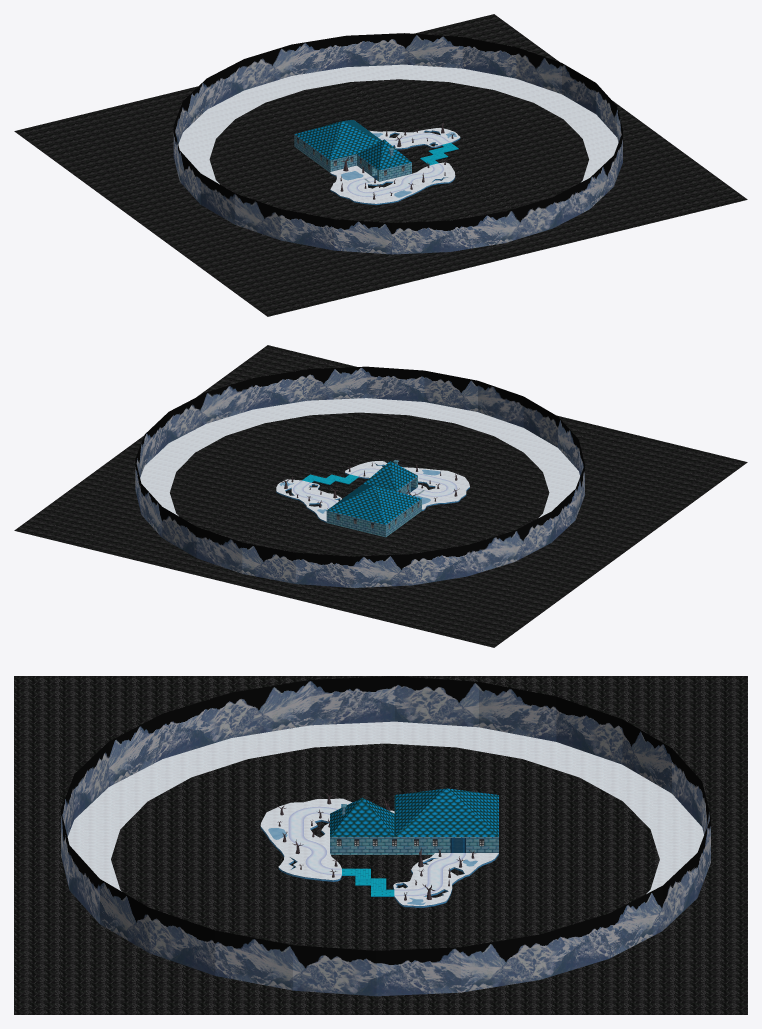
3 views of the same model, one above another, from view 1: azimuth 30°, elevation 25°; view 2: azimuth 150°, elevation 25°; view 3: azimuth 270°, elevation 25° (orthographic). The views are drawn at different scales.
Visible parts, largest first — view 1: Blue_Loop_SKP__ef_wave.001, Blue_Loop_SKP__Mountains.001, Blue_Loop_SKP__Snow.001, Blue_Loop_SKP__Roof.001, Blue_Loop_SKP__Brick.001, Blue_Loop_SKP__Road.001, Blue_Loop_SKP__Ice.001; view 2: Blue_Loop_SKP__ef_wave.001, Blue_Loop_SKP__Mountains.001, Blue_Loop_SKP__Snow.001, Blue_Loop_SKP__Roof.001, Blue_Loop_SKP__Brick.001, Blue_Loop_SKP__Road.001; view 3: Blue_Loop_SKP__ef_wave.001, Blue_Loop_SKP__Mountains.001, Blue_Loop_SKP__Snow.001, Blue_Loop_SKP__Roof.001, Blue_Loop_SKP__Brick.001, Blue_Loop_SKP__Road.001, Blue_Loop_SKP__Ice.001, Blue_Loop_SKP__Planks.001, Blue_Loop_SKP__GV_Tree.001.
Part boxes in pixels (left/top/right/bottom): Blue_Loop_SKP__ef_wave.001: left=14, top=14, right=747, bottom=316; Blue_Loop_SKP__Mountains.001: left=173, top=33, right=622, bottom=254; Blue_Loop_SKP__Snow.001: left=178, top=64, right=618, bottom=203; Blue_Loop_SKP__Roof.001: left=295, top=120, right=411, bottom=170; Blue_Loop_SKP__Brick.001: left=294, top=134, right=411, bottom=181; Blue_Loop_SKP__Road.001: left=347, top=133, right=450, bottom=196; Blue_Loop_SKP__Ice.001: left=330, top=130, right=460, bottom=205; Blue_Loop_SKP__ef_wave.001: left=14, top=345, right=747, bottom=647; Blue_Loop_SKP__Mountains.001: left=135, top=366, right=584, bottom=587; Blue_Loop_SKP__Snow.001: left=140, top=398, right=579, bottom=521; Blue_Loop_SKP__Roof.001: left=327, top=461, right=421, bottom=524; Blue_Loop_SKP__Brick.001: left=326, top=460, right=421, bottom=537; Blue_Loop_SKP__Road.001: left=293, top=468, right=457, bottom=508; Blue_Loop_SKP__ef_wave.001: left=14, top=676, right=747, bottom=1014; Blue_Loop_SKP__Mountains.001: left=61, top=676, right=710, bottom=996; Blue_Loop_SKP__Snow.001: left=67, top=721, right=703, bottom=905; Blue_Loop_SKP__Roof.001: left=330, top=788, right=498, bottom=836; Blue_Loop_SKP__Brick.001: left=330, top=804, right=498, bottom=854; Blue_Loop_SKP__Road.001: left=288, top=806, right=465, bottom=895; Blue_Loop_SKP__Ice.001: left=260, top=820, right=498, bottom=907; Blue_Loop_SKP__Planks.001: left=342, top=868, right=394, bottom=895; Blue_Loop_SKP__GV_Tree.001: left=277, top=792, right=475, bottom=900.
Size of the model in its own units: 182556 by 11487 by 167073.
15 materials, 15 textured.
